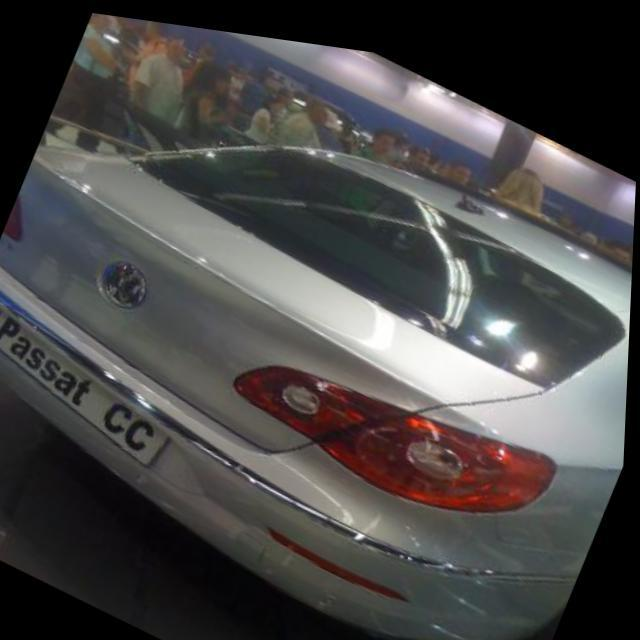license_plate: (0, 305, 192, 470)
